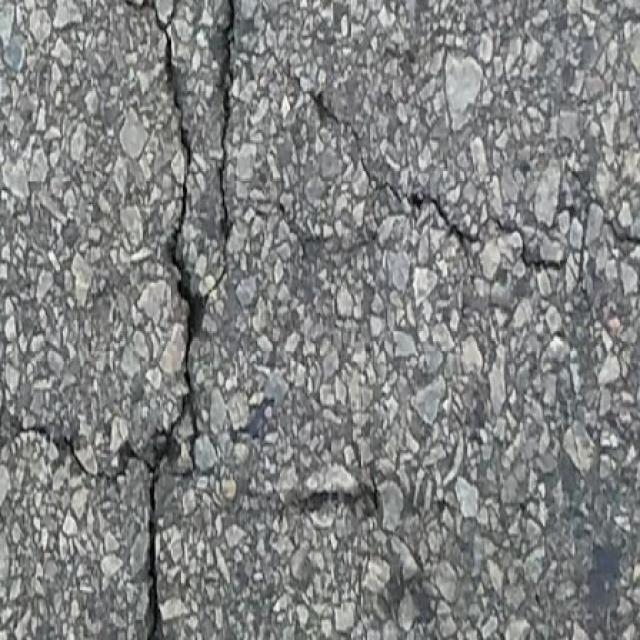Diagonal Crack: (0, 0, 249, 640), (360, 150, 635, 279), (264, 33, 378, 170), (243, 476, 402, 532)
